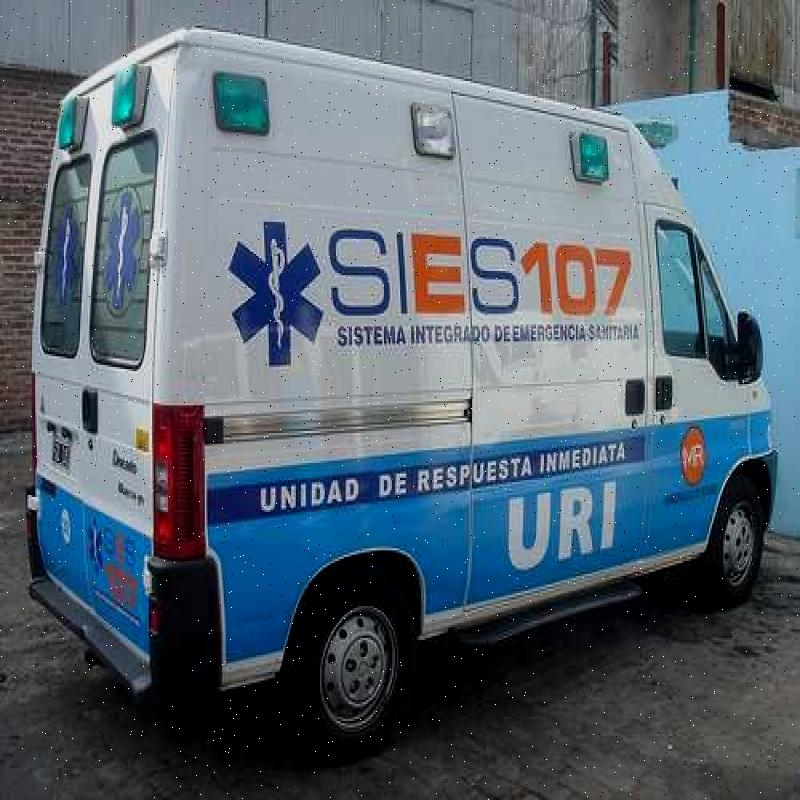AmbulanceSiren: (51, 64, 167, 147), (208, 64, 281, 153), (400, 98, 454, 168), (571, 123, 616, 187)
